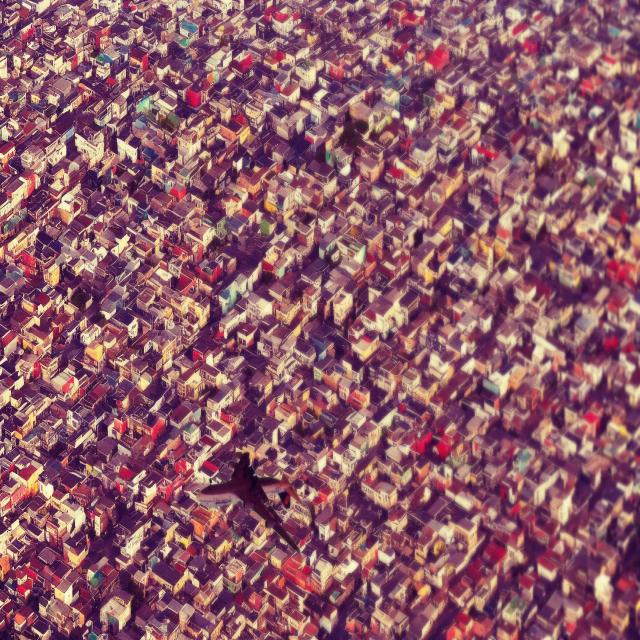airplane: (196, 451, 303, 554)
